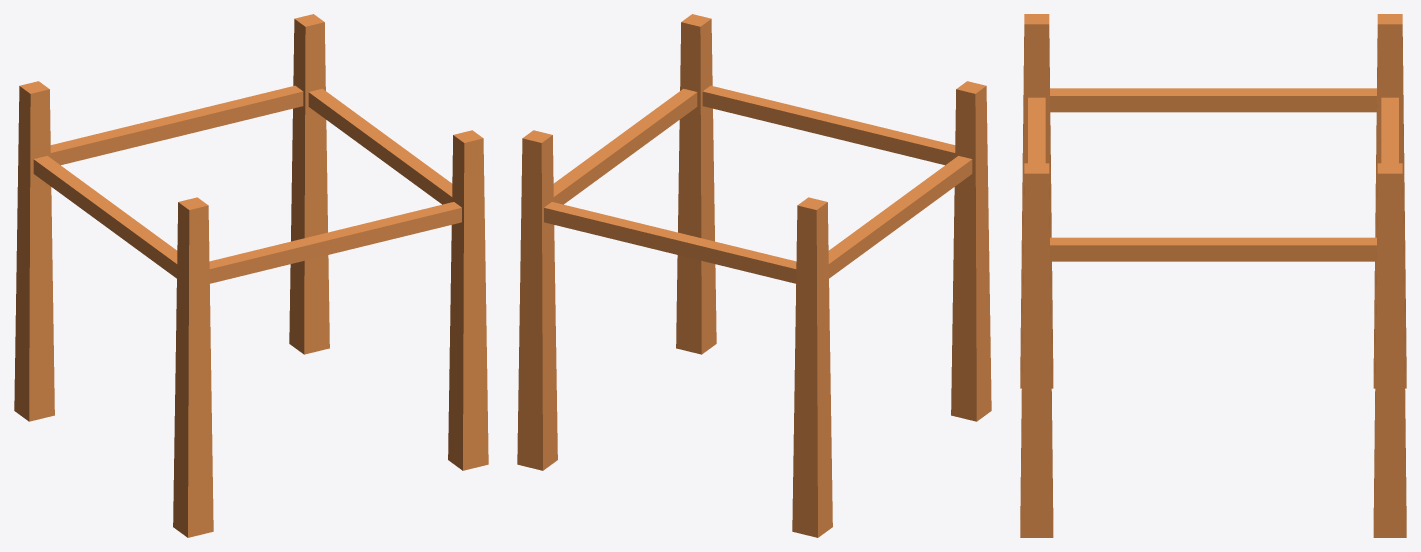
The model's file is shelf.glb.
3 views of the same model, side by side, from view 1: azimuth 30°, elevation 25°; view 2: azimuth 150°, elevation 25°; view 3: azimuth 270°, elevation 25° (orthographic). The views are drawn at different scales.
Visible parts, largest first — view 1: structure; view 2: structure; view 3: structure.
Boxes of the visible parts, bbox=[...] form: structure: bbox=[14, 14, 488, 537]; structure: bbox=[517, 14, 991, 537]; structure: bbox=[1020, 14, 1406, 537].
Bounding box in the file's own units: 0.5 × 0.5175 × 0.5.
